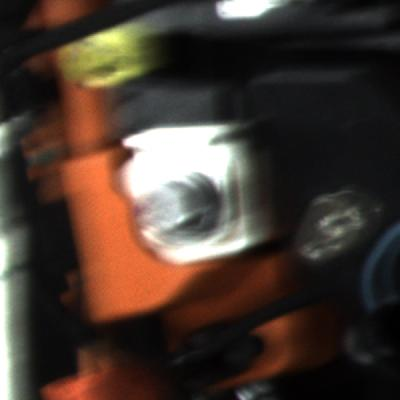nut_b: (131, 169, 230, 252)
